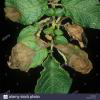Potato leaf late blight: (7, 35, 48, 70), (53, 41, 93, 75), (2, 0, 49, 26), (59, 20, 89, 48)
